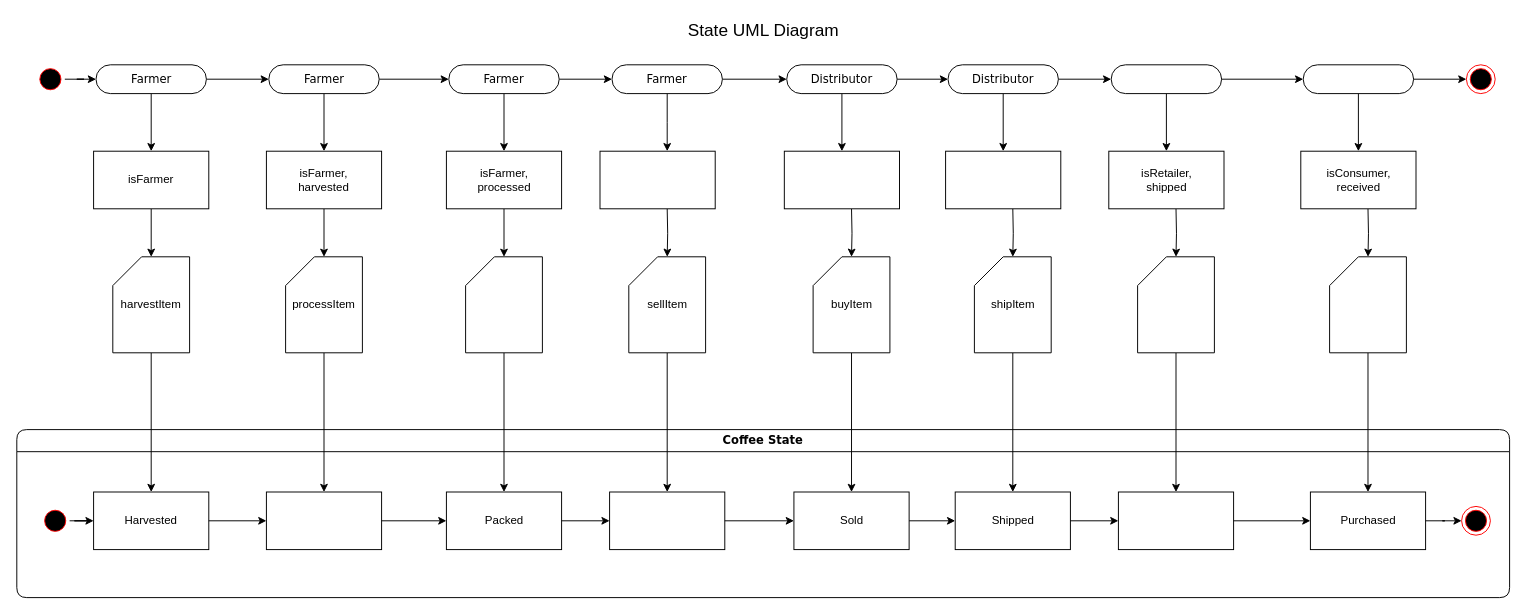
Some shapes in this 1526 by 614 pixel diagram are drawn without their labels. The shapes that lost their labels are listed below. From the top down, each one's centre as x and y in pixels, then its label:
the point at 1166,79: Retailer
the point at 1358,79: Consumer
the point at 657,179: isFarmer, packed
the point at 841,179: isDistributor, forSale
the point at 1003,179: isDistributor, sold
the point at 503,304: packItem
the point at 1175,304: receiveItem
the point at 1367,304: purchaseItem
the point at 323,520: Processed
the point at 667,520: ForSale
the point at 1175,520: Received
